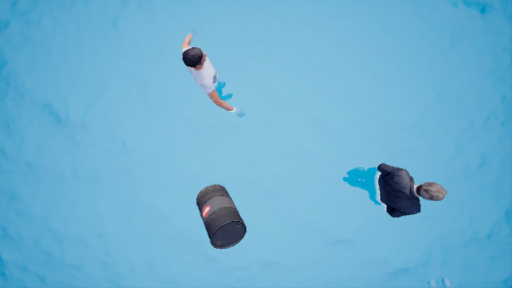person: (341, 155, 451, 227), (180, 29, 263, 123)
